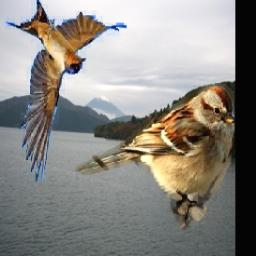Sparrow: (75, 84, 234, 229)
Swallow: (5, 0, 127, 184)
